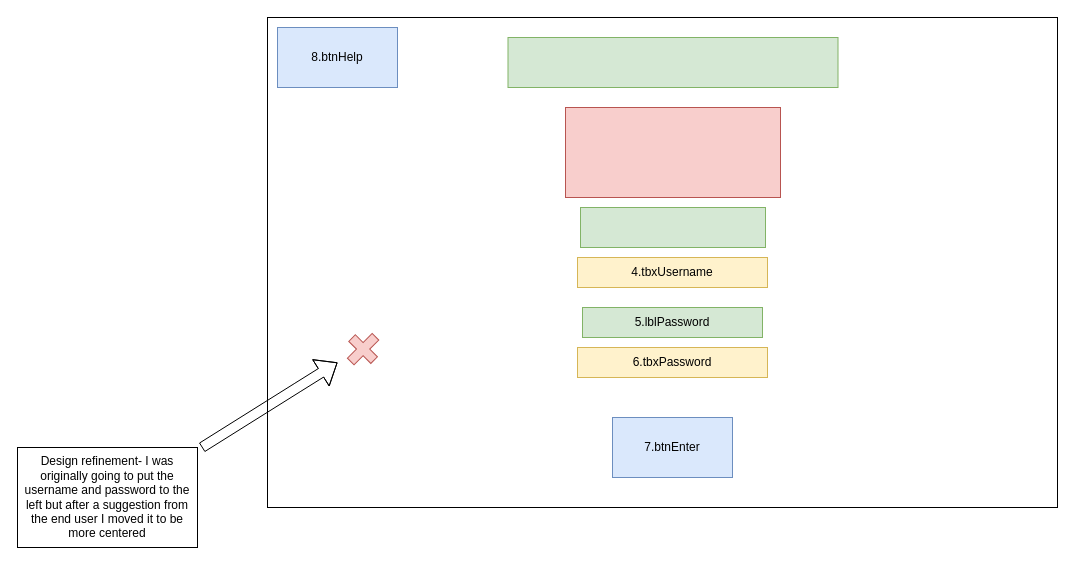
Image size: 1075x565. Some labels were removed from this diagram. The shapes that lost their labels are listed below. From the top down, each one's centre as x and y in pixels, then its label:
At point 672,62: "1.lblTitle".
At point 672,152: "2.pbxLogo".
At point 673,227: "3.lblUsername".
